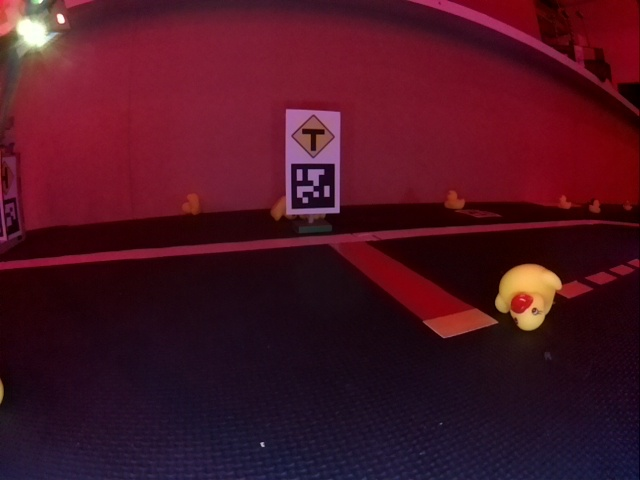Duckie: (495, 267, 560, 331), (271, 197, 294, 220), (183, 194, 201, 214), (445, 191, 463, 208), (559, 196, 571, 209), (623, 201, 632, 211), (590, 201, 598, 211)
Intersection sign: (289, 115, 337, 154), (0, 163, 14, 194)
QR code: (293, 166, 335, 208), (3, 199, 21, 235), (466, 208, 497, 218)
